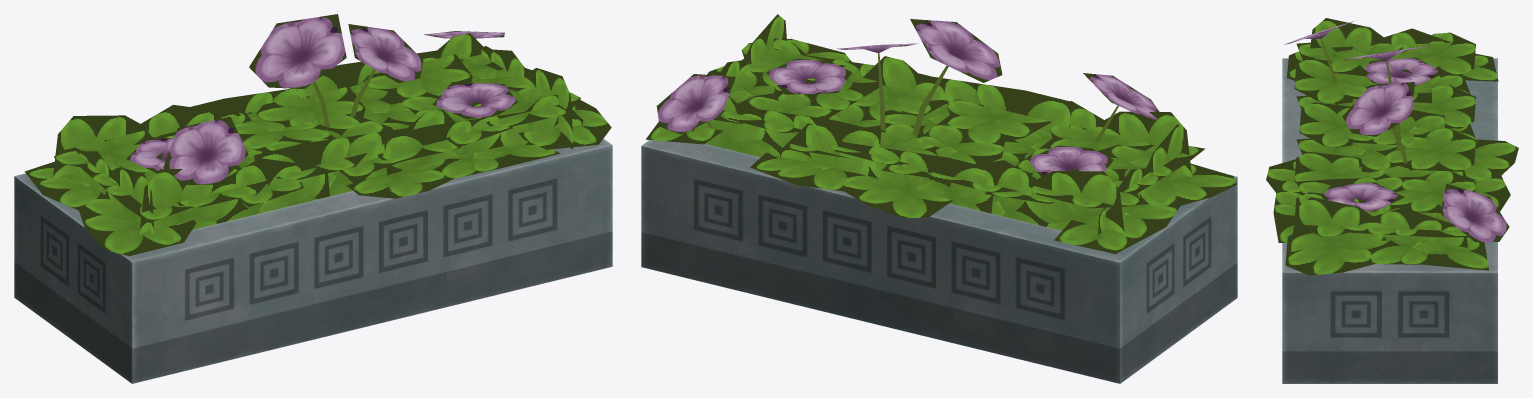
Rendered from vase_01.fbx.
The picture shows the model from 3 angles, left to right: view 1: azimuth 30°, elevation 25°; view 2: azimuth 150°, elevation 25°; view 3: azimuth 270°, elevation 25°; orthographic projection. The views are drawn at different scales.
Visible parts, largest first — view 1: vase_01, vase_01_plants; view 2: vase_01, vase_01_plants; view 3: vase_01_plants, vase_01.
Boxes of the visible parts, x1=… form: vase_01: x1=14, y1=138, x2=612, y2=383; vase_01_plants: x1=24, y1=14, x2=611, y2=256; vase_01: x1=641, y1=140, x2=1237, y2=383; vase_01_plants: x1=646, y1=14, x2=1236, y2=253; vase_01_plants: x1=1266, y1=18, x2=1518, y2=275; vase_01: x1=1282, y1=58, x2=1497, y2=383.
Bounding box in the file's own units: 112 × 54.63 × 52.69.
